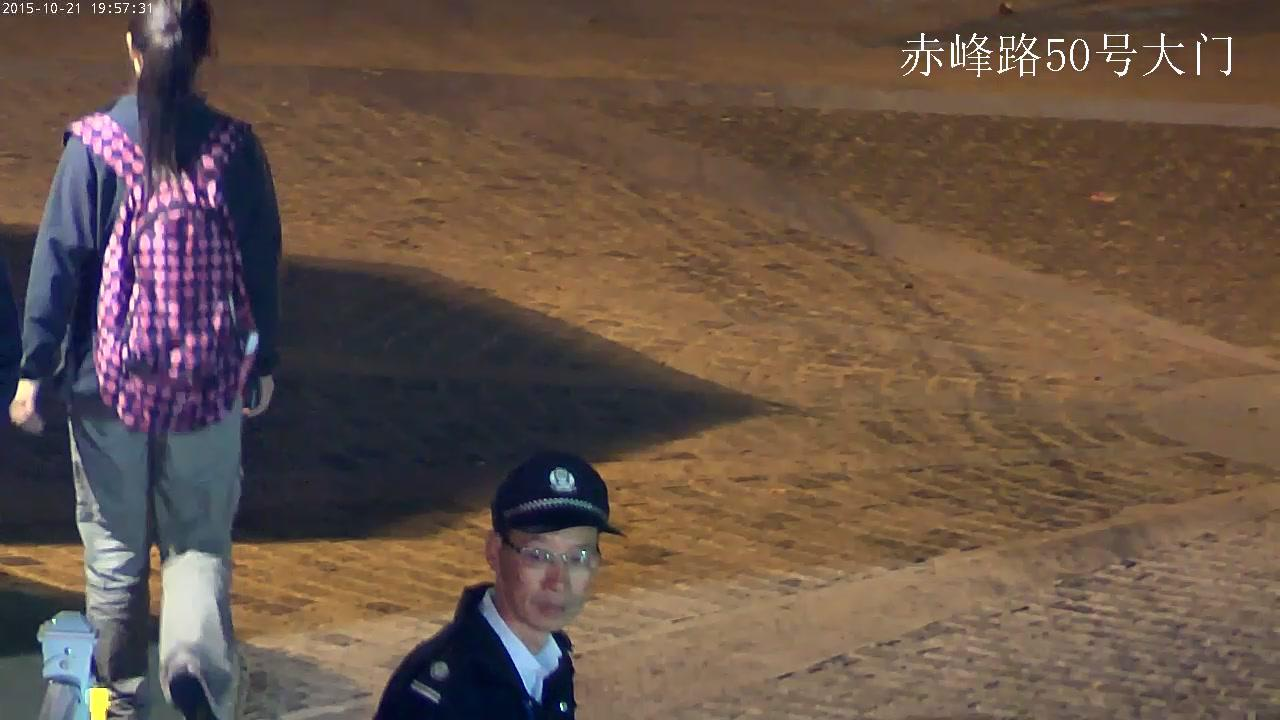person: (6, 1, 281, 720), (372, 452, 628, 720)
